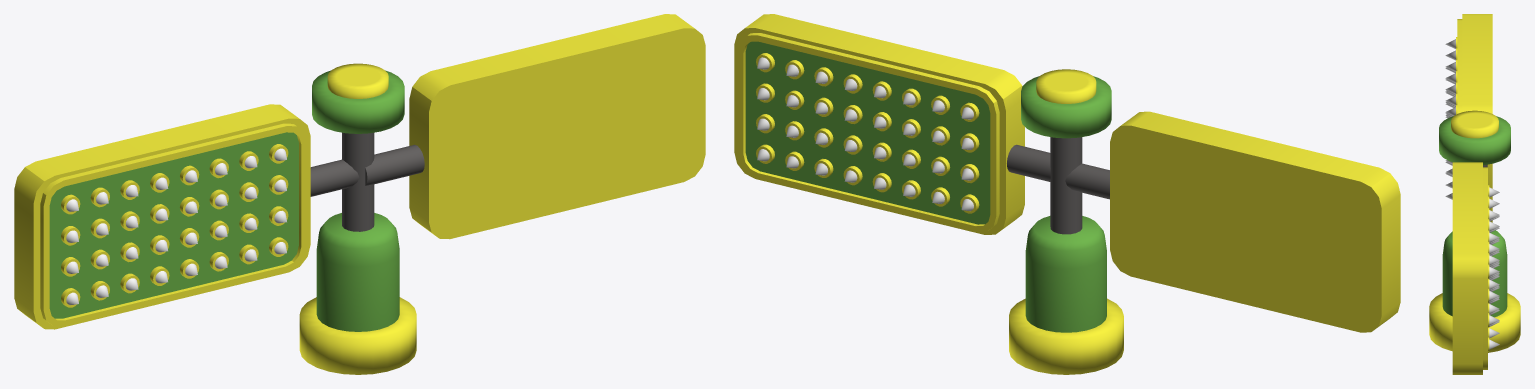
File: Obstacle 14 V2.fbx
The picture shows the model from 3 angles, left to right: view 1: azimuth 30°, elevation 25°; view 2: azimuth 150°, elevation 25°; view 3: azimuth 270°, elevation 25°; orthographic projection. The views are drawn at different scales.
Parts seen in each view (by area): view 1: O14 Part 1, O14 Part 2; view 2: O14 Part 1, O14 Part 2; view 3: O14 Part 1, O14 Part 2.
Part boxes in pixels (<box>): O14 Part 1: <box>14,14,705,329</box>; O14 Part 2: <box>299,63,416,374</box>; O14 Part 1: <box>734,14,1400,332</box>; O14 Part 2: <box>1009,69,1123,374</box>; O14 Part 1: <box>1445,14,1499,374</box>; O14 Part 2: <box>1429,110,1520,352</box>.
Bounding box in the file's own units: 296 × 116 × 45.05.
Materials: 1 (1 with a texture image).
